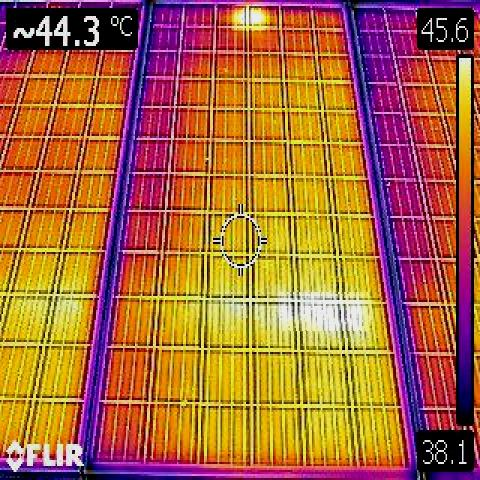fault: (280, 292, 372, 331), (232, 5, 266, 31)
